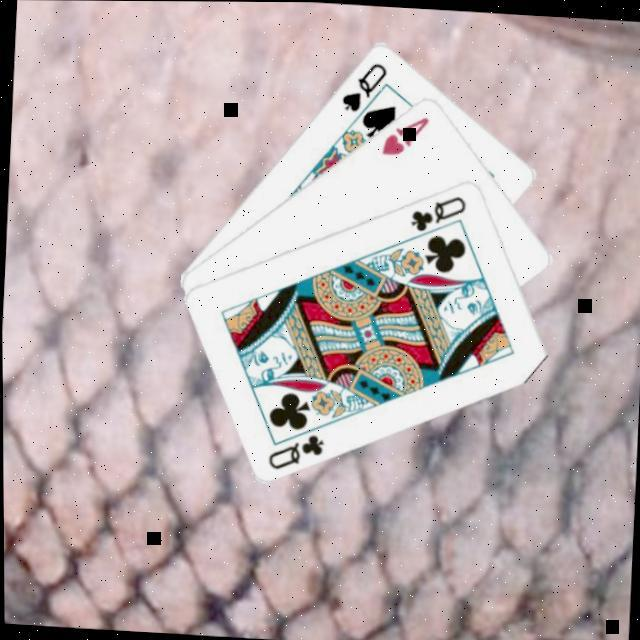AH: (378, 110, 434, 162)
QC: (264, 428, 328, 475), (408, 190, 470, 237)
QS: (338, 56, 392, 116)
